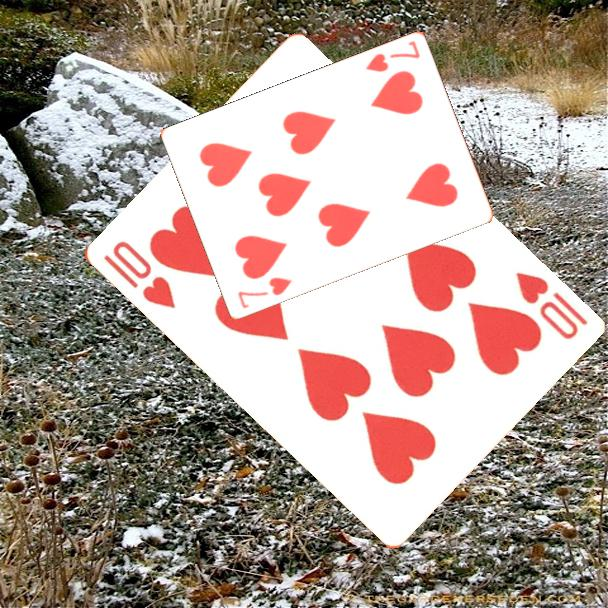h07: (234, 274, 295, 312), (362, 38, 423, 76)
h10: (99, 237, 178, 312), (511, 268, 590, 343)
